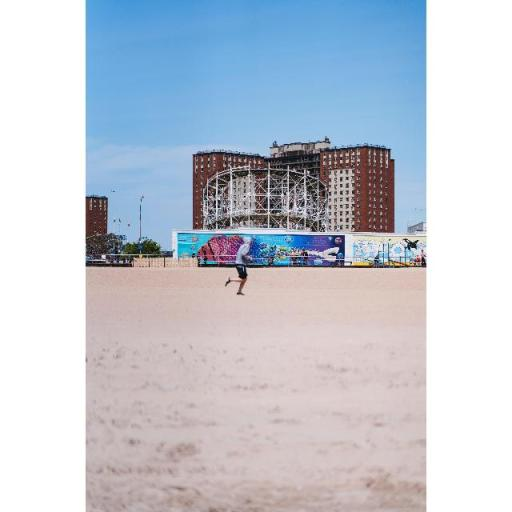Running: (212, 226, 261, 302)
